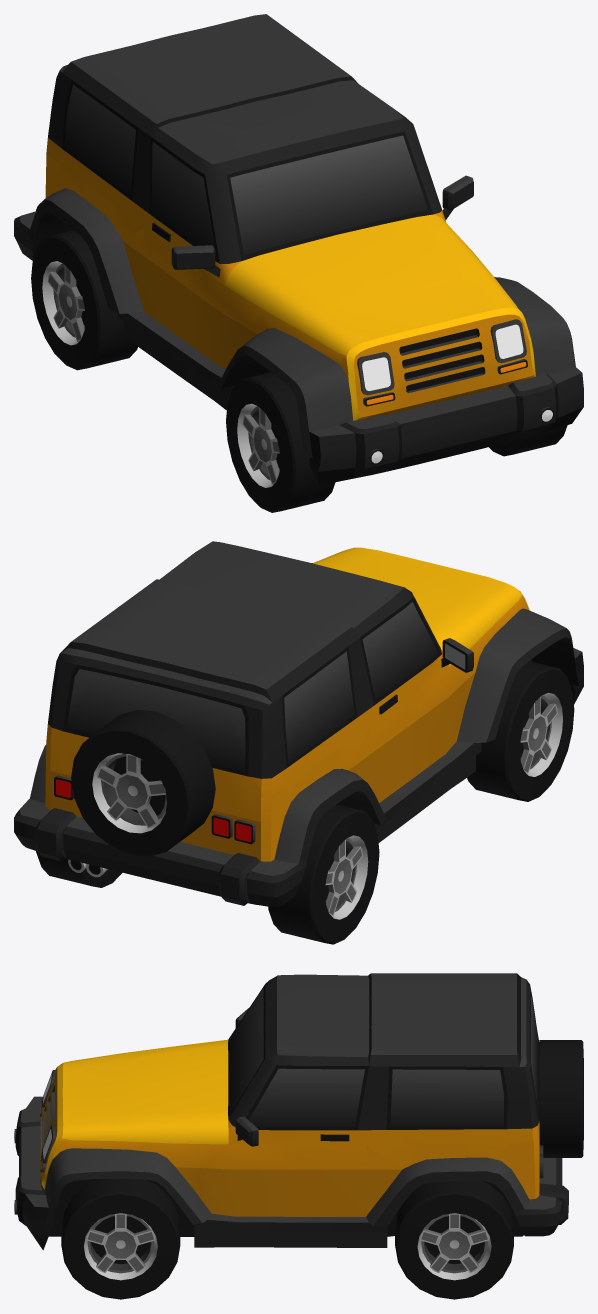
File: Jeep 2.fbx
3 renders of one model, top to bottom at view 1: azimuth 30°, elevation 25°; view 2: azimuth 150°, elevation 25°; view 3: azimuth 270°, elevation 25°, orthographic. The views are drawn at different scales.
Parts seen in each view (by area): view 1: Jeep_2_Body, F_R, B_R, Jeep_2_Lights, F_L; view 2: Jeep_2_Body, F_R, B_R, B_L, Jeep_2_Lights; view 3: Jeep_2_Body, F_L, B_L.
Boxes of the visible parts, x1,y1,x2,y2 form: Jeep_2_Body: (14,14,583,485); F_R: (226,372,335,512); B_R: (31,230,137,370); Jeep_2_Lights: (362,324,552,463); F_L: (489,425,567,456); Jeep_2_Body: (14,541,583,906); F_R: (467,661,574,801); B_R: (268,804,379,944); B_L: (36,851,122,887); Jeep_2_Lights: (56,779,251,841); Jeep_2_Body: (14,973,583,1250); F_L: (61,1178,180,1299); B_L: (395,1181,513,1299).
Bounding box in the file's own units: 223 × 191 × 428.
